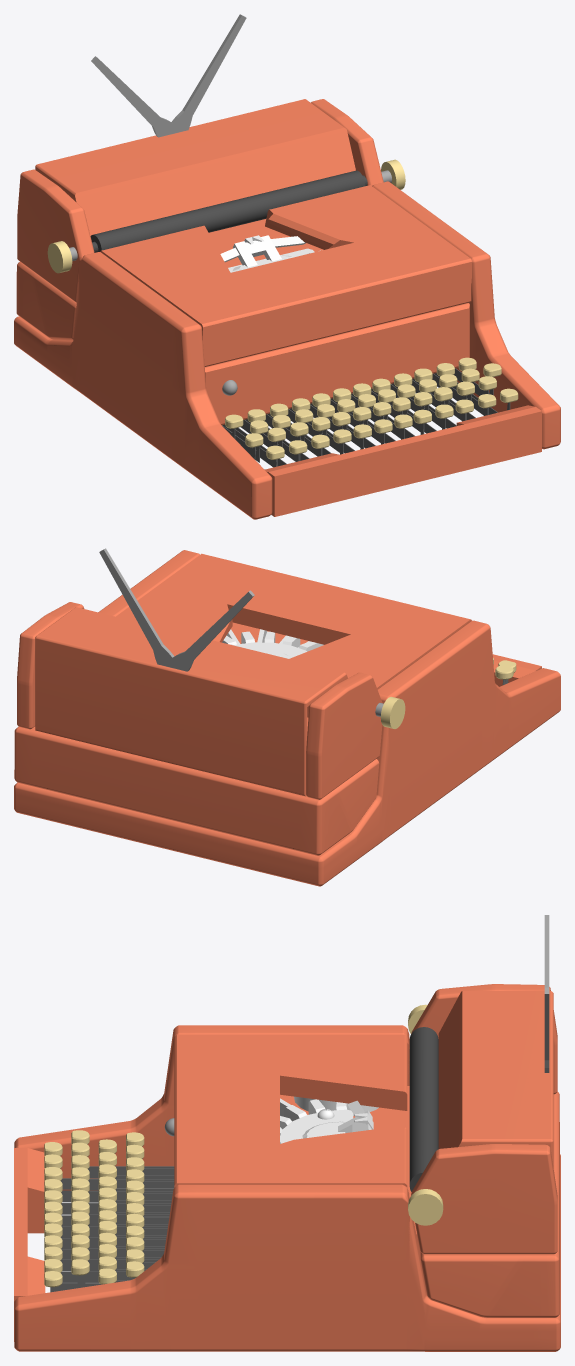
File: AP_typewriter_CM.fbx
3 renders of one model, top to bottom at view 1: azimuth 30°, elevation 25°; view 2: azimuth 150°, elevation 25°; view 3: azimuth 270°, elevation 25°, orthographic. The views are drawn at different scales.
Parts seen in each view (by area): view 1: pCube3, pCube9, pCube1, pCube2, pCube4, pCube26, pCylinder104, pCube7, pasted__pCube26, pasted__pCube22, pasted__pCube27, pCube27 (+1 smaller); view 2: pCube1, pCube9, pCube7, pCube3, pCube26, pasted__pCube26, pasted__pCube27, pasted__pCube22, pCube27, pCylinder108, pCube4, pCube2; view 3: pCube9, pCube3, pCube1, pasted__pCube26, pCube7, pCylinder104, pCube4, pasted__pCube22, pCube26, pCube2, pCylinder107.
Boxes of the visible parts, bbox=[...] form: pCube3: bbox=[100, 185, 471, 366]; pCube9: bbox=[14, 181, 560, 519]; pCube1: bbox=[35, 99, 355, 235]; pCube2: bbox=[204, 219, 469, 425]; pCube4: bbox=[265, 405, 541, 516]; pCube26: bbox=[17, 169, 94, 302]; pCylinder104: bbox=[90, 170, 367, 252]; pCube7: bbox=[16, 262, 76, 340]; pasted__pCube26: bbox=[311, 99, 383, 185]; pasted__pCube22: bbox=[220, 235, 320, 272]; pasted__pCube27: bbox=[170, 14, 246, 134]; pCube27: bbox=[91, 56, 176, 137]; pCube1: bbox=[35, 607, 347, 796]; pCube9: bbox=[14, 550, 560, 886]; pCube7: bbox=[14, 726, 379, 855]; pCube3: bbox=[116, 553, 471, 689]; pCube26: bbox=[306, 672, 382, 799]; pasted__pCube26: bbox=[17, 602, 84, 729]; pasted__pCube27: bbox=[99, 548, 175, 667]; pasted__pCube22: bbox=[222, 629, 323, 658]; pCube27: bbox=[169, 590, 254, 671]; pCylinder108: bbox=[375, 696, 405, 728]; pCube4: bbox=[492, 654, 541, 686]; pCube2: bbox=[231, 622, 308, 730]; pCube9: bbox=[14, 1025, 560, 1351]; pCube3: bbox=[174, 1034, 407, 1187]; pCube1: bbox=[438, 991, 553, 1167]; pasted__pCube26: bbox=[411, 1144, 557, 1254]; pCube7: bbox=[420, 1091, 559, 1317]; pCylinder104: bbox=[409, 1027, 438, 1191]; pCube4: bbox=[14, 1148, 45, 1341]; pasted__pCube22: bbox=[280, 1096, 378, 1143]; pCube26: bbox=[411, 984, 557, 1094]; pCube2: bbox=[280, 1086, 420, 1255]; pCylinder107: bbox=[408, 1189, 443, 1225].
Bounding box in the file's own units: 3.88 × 3.04 × 4.74.
